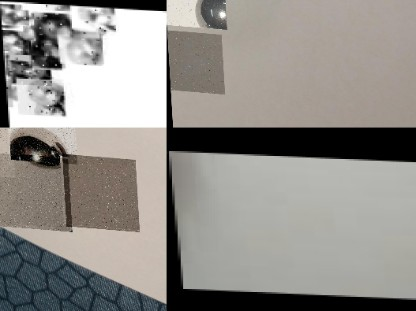ironball: (4, 127, 75, 160), (14, 75, 63, 115), (57, 28, 102, 63), (32, 10, 74, 43), (7, 52, 50, 84), (69, 3, 115, 30), (28, 40, 64, 66), (190, 0, 227, 23), (0, 4, 25, 27), (45, 2, 91, 10), (2, 49, 9, 80), (4, 77, 11, 106)
